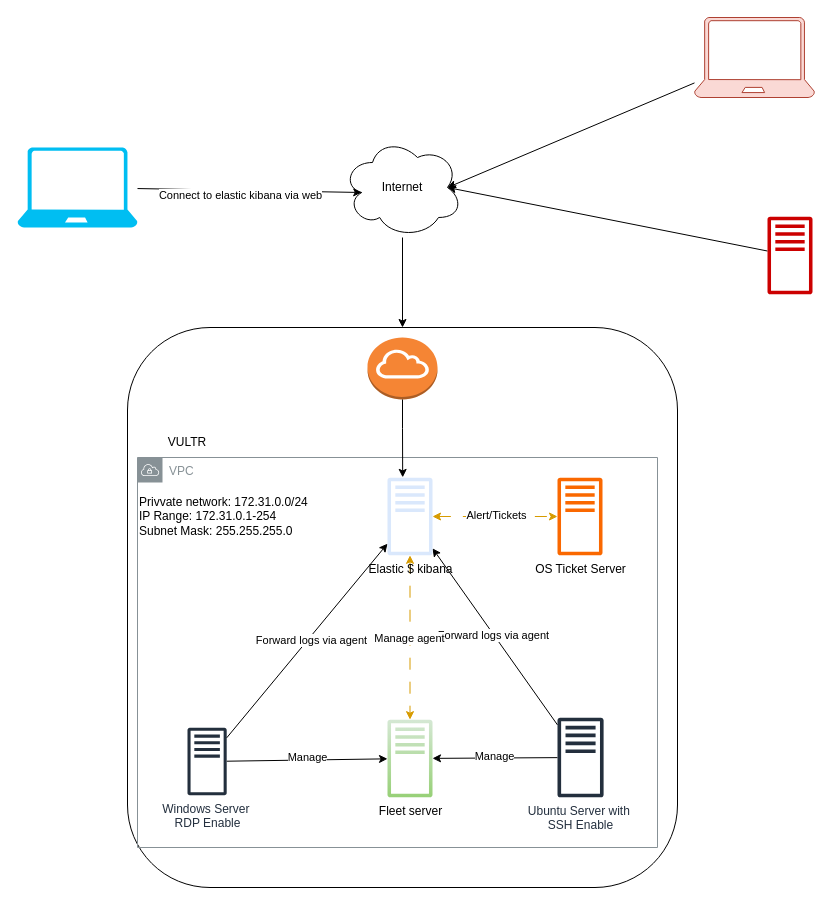
This 834x905 diagram has some shape labels left out. The shapes that lost their labels are listed below. From the top down, each one's centre as x and y in pixels, then its label:
point 754,57: Attackers laptop Kali linux
point 77,187: SOC Analyst Laptop
point 789,255: C2 Server Mythic
